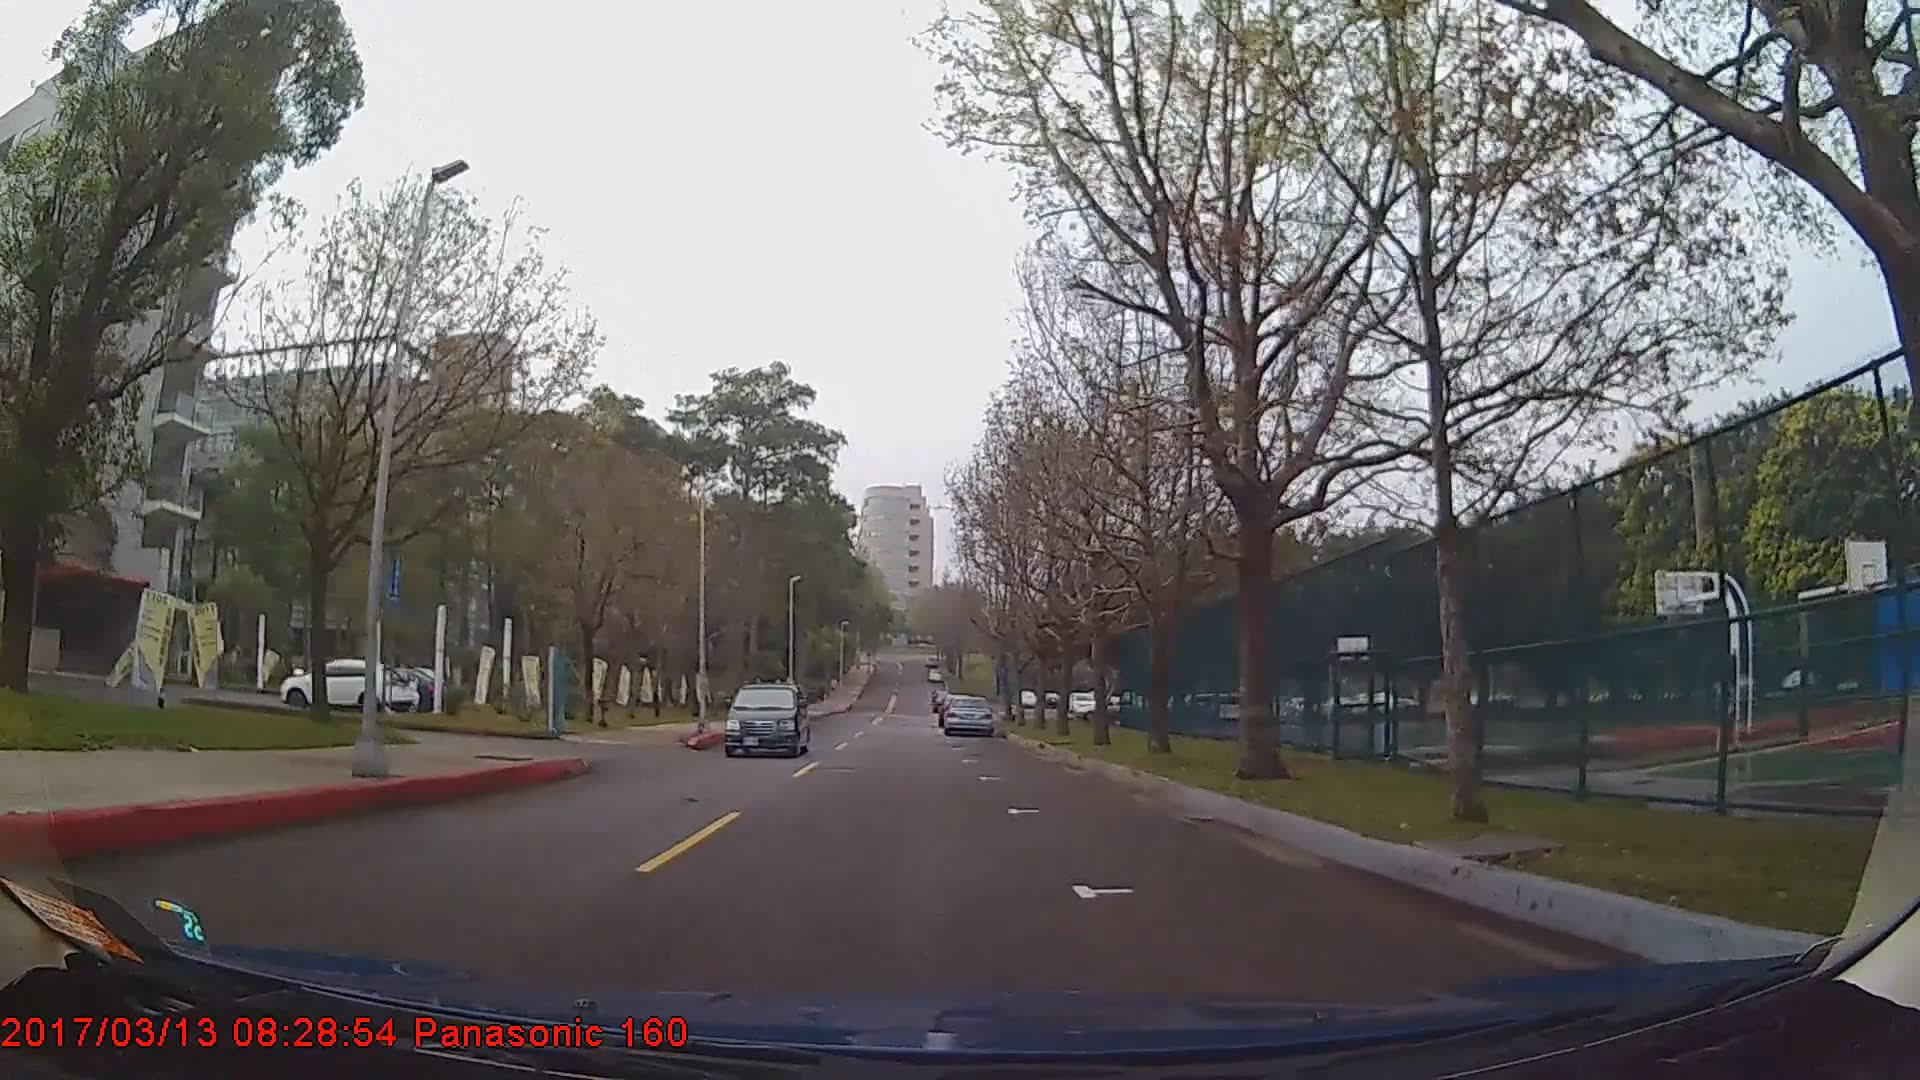vehicle: (278, 655, 414, 713), (723, 683, 811, 760), (942, 698, 992, 741)
